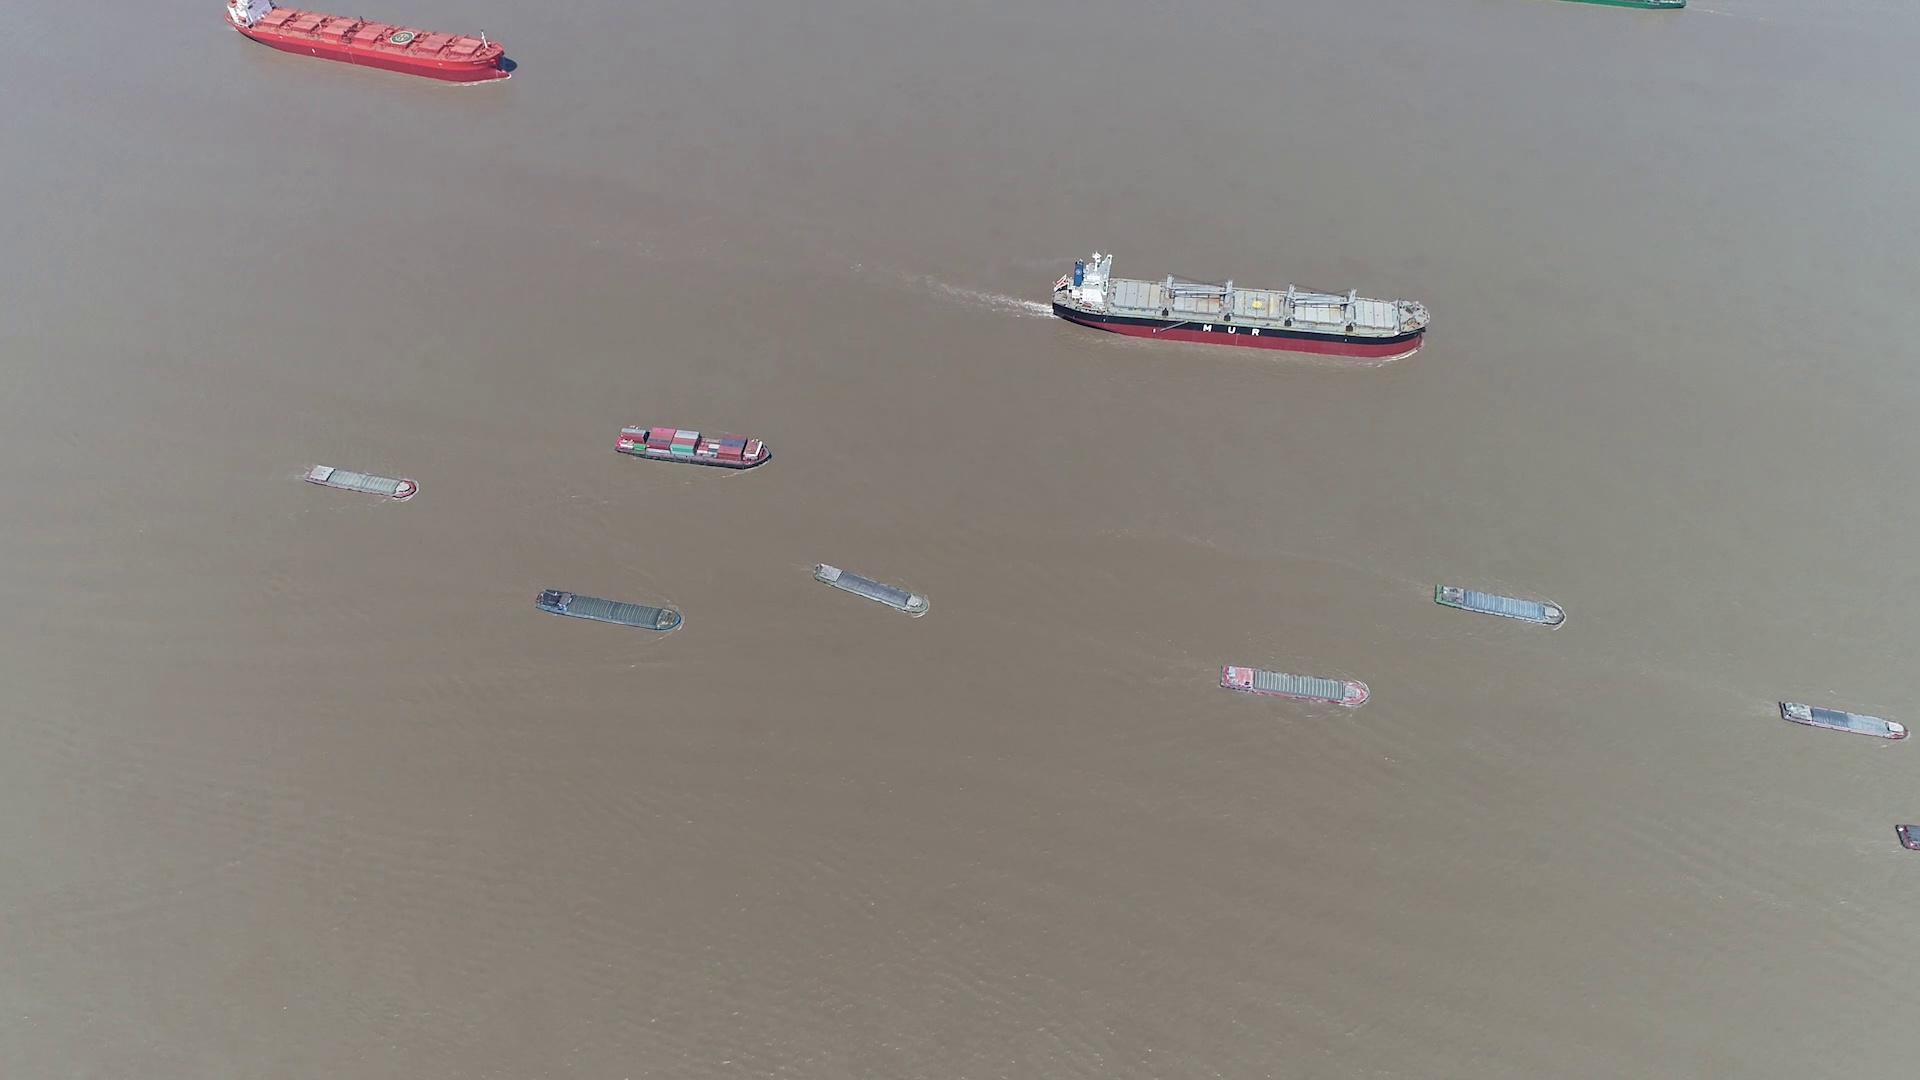ship: (1052, 256, 1433, 355), (225, 0, 516, 82), (615, 425, 771, 469), (531, 589, 684, 634), (1221, 665, 1371, 704), (812, 564, 927, 615), (1435, 583, 1567, 626), (1778, 699, 1905, 742), (305, 463, 419, 498), (1568, 0, 1683, 11)
